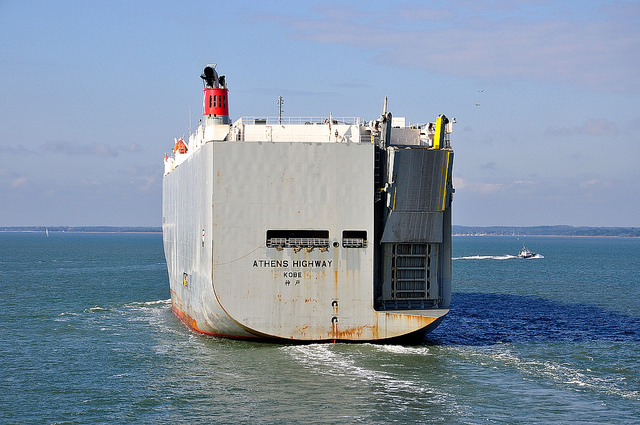PCC: (162, 69, 454, 348)
boat: (511, 244, 542, 262)
